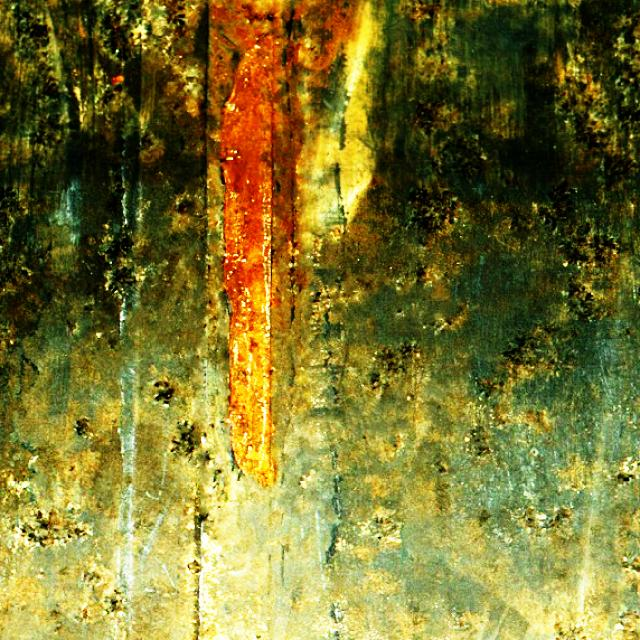Corrosion: (218, 34, 271, 484)
